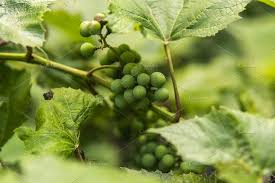grapes: (75, 13, 181, 177)
